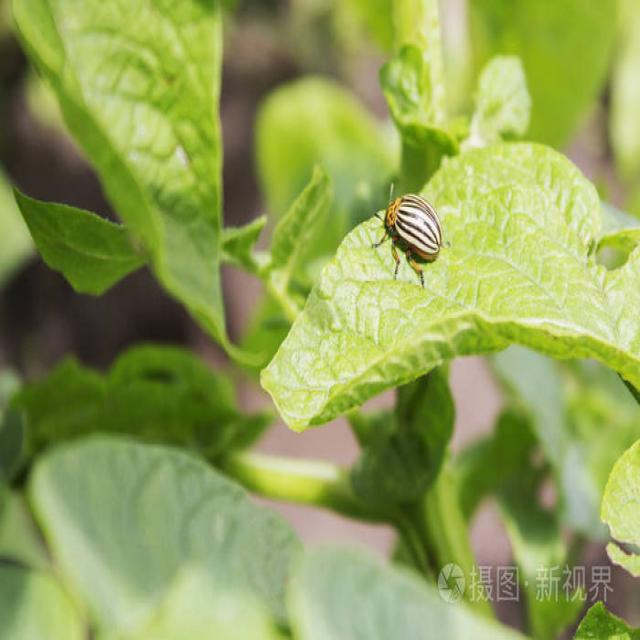ShuCaiHuaBanChong-Grown-: (378, 191, 454, 277)
